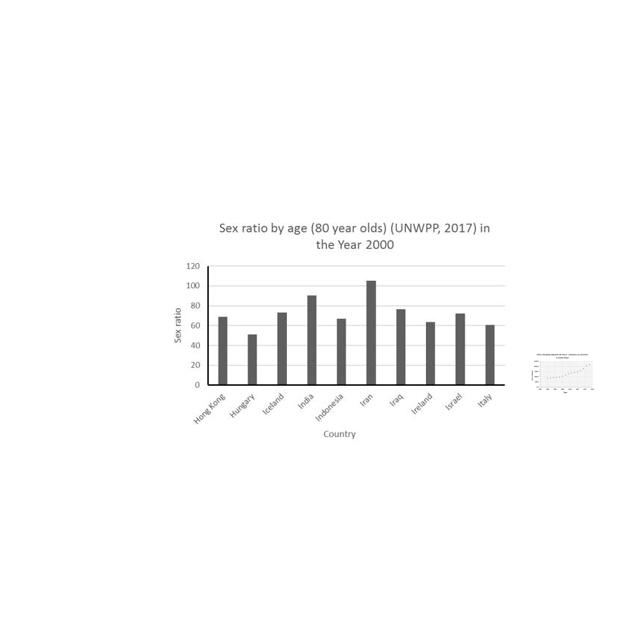Graph: (162, 217, 513, 446), (530, 352, 595, 394)
